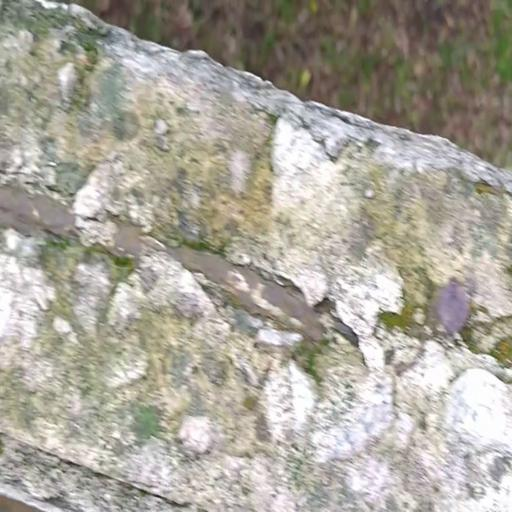spalling: (3, 0, 512, 512)
